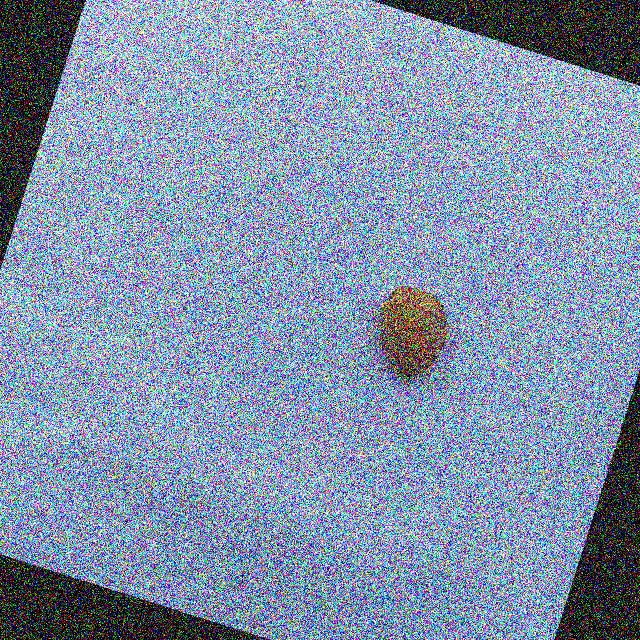grade2: (357, 275, 462, 391)
